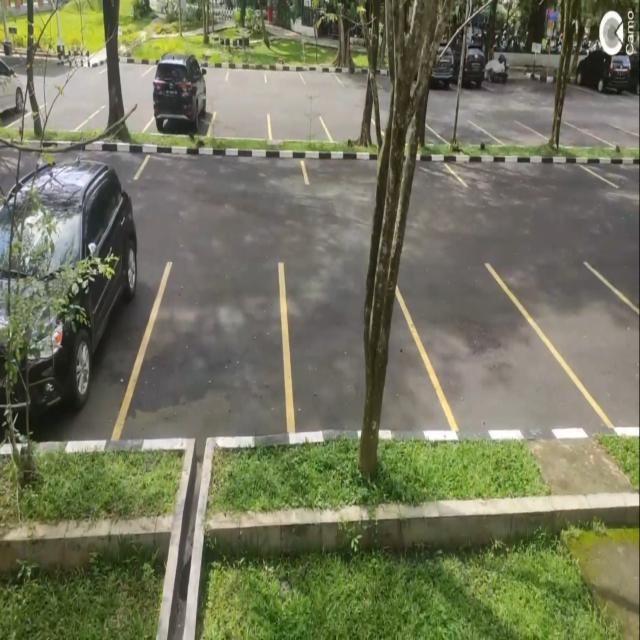empty: (146, 260, 290, 433), (279, 258, 422, 432), (412, 262, 551, 432), (552, 261, 638, 427), (137, 145, 310, 187), (450, 153, 607, 197), (209, 105, 272, 142), (266, 110, 332, 144)
occupied: (0, 195, 148, 441), (147, 59, 214, 138)
